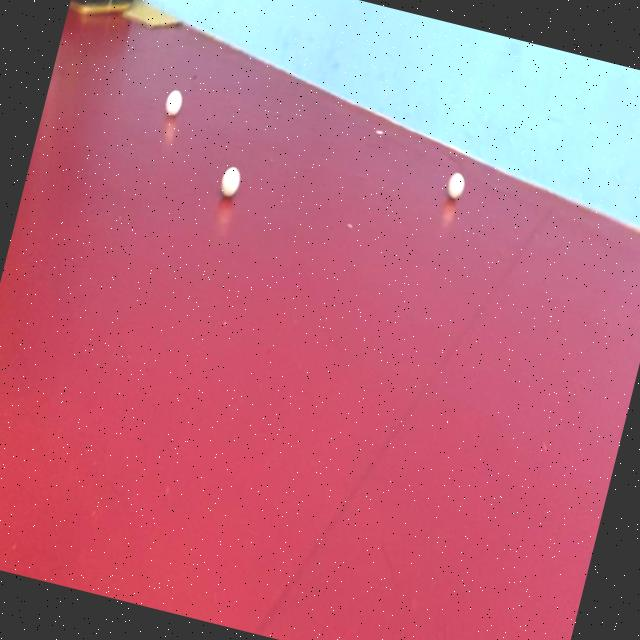ping-pong-ball: (153, 76, 192, 131), (212, 150, 250, 203), (440, 156, 478, 207)
